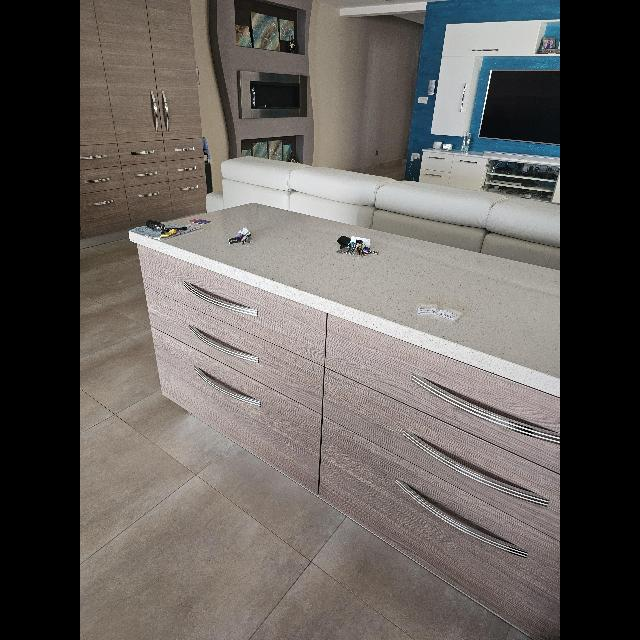Keys: (336, 236, 378, 256), (231, 232, 251, 244)
